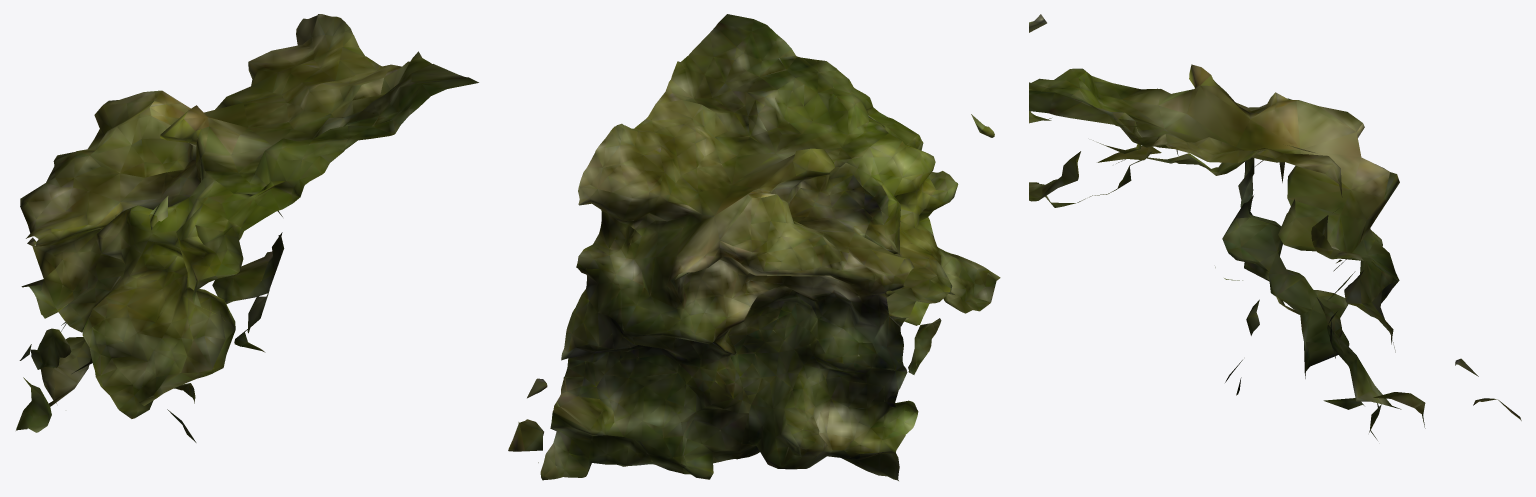
3 views of the same model, side by side, from view 1: azimuth 30°, elevation 25°; view 2: azimuth 150°, elevation 25°; view 3: azimuth 270°, elevation 25° (orthographic). The views are drawn at different scales.
Size of the model in its own units: 0.4265 by 0.4951 by 0.592.
1 material, 1 textured.
